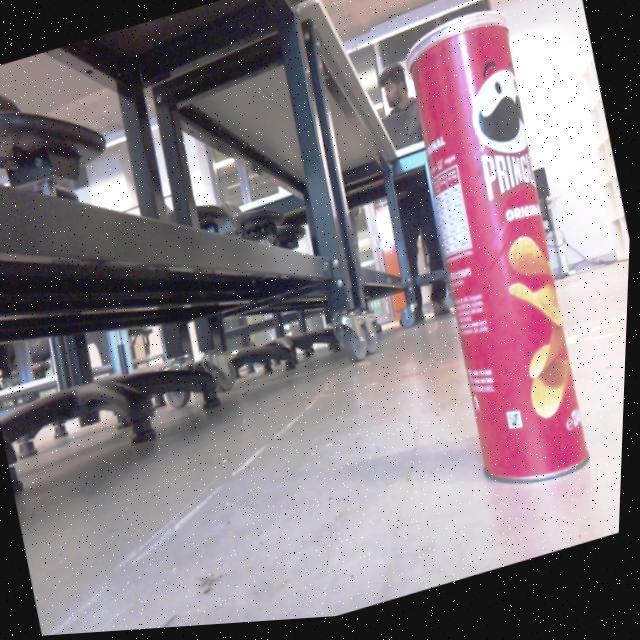redpringles: (341, 0, 640, 545)
